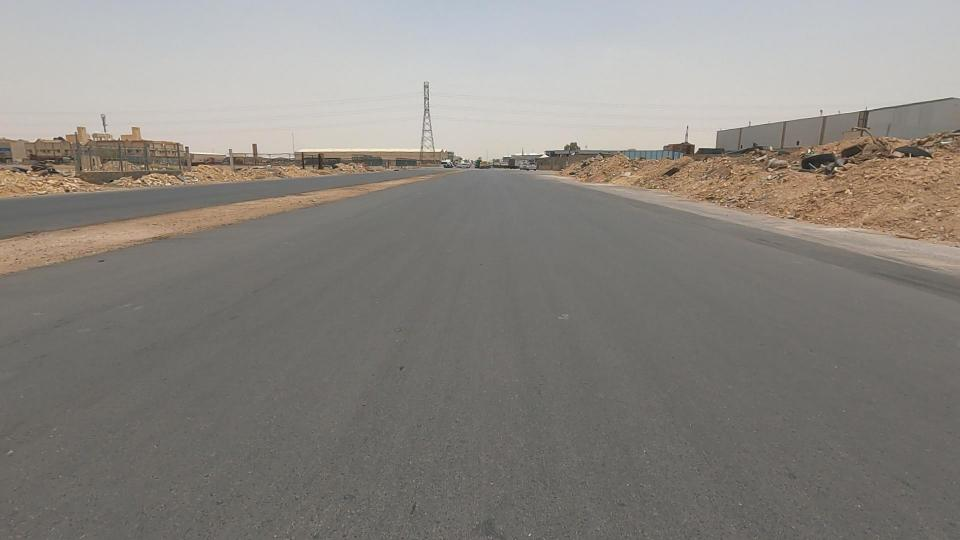GARBAGE: (764, 111, 893, 210), (848, 109, 960, 194), (724, 134, 809, 189), (638, 145, 714, 198)
